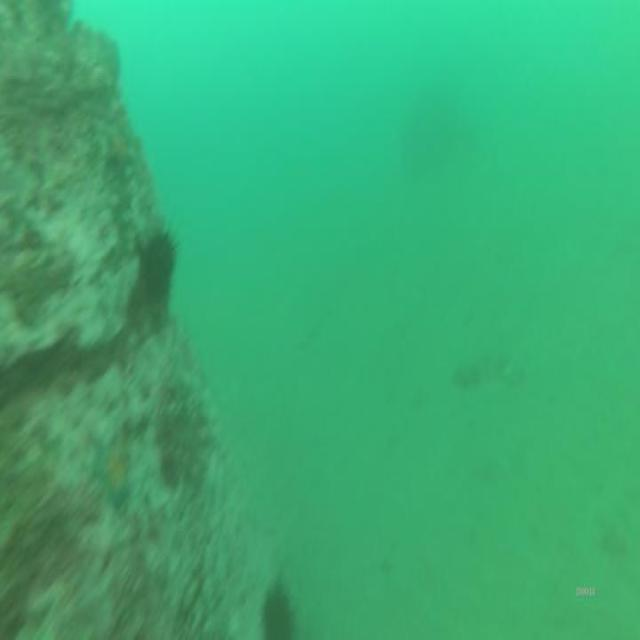echinus: (140, 231, 174, 294), (263, 588, 291, 637)
holothurian: (458, 349, 516, 389)
starfish: (91, 441, 134, 504), (105, 126, 132, 174)
